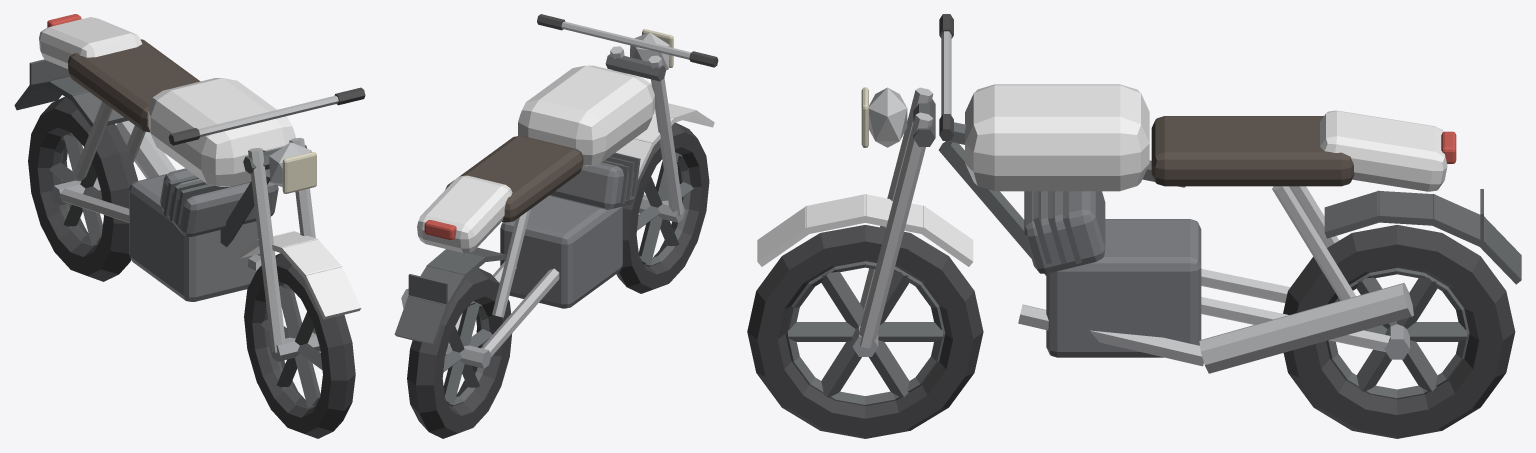
The model's file is motorbike.glb.
3 renders of one model, left to right at view 1: azimuth 30°, elevation 25°; view 2: azimuth 150°, elevation 25°; view 3: azimuth 270°, elevation 25°, orthographic. The views are drawn at different scales.
Parts seen in each view (by area): view 1: body, wheel-back, wheel-front, steer, seat, detach_fender, detach_fender_back, detach_exhaust; view 2: body, wheel-back, wheel-front, steer, seat, detach_fender_back, detach_fender; view 3: body, wheel-front, wheel-back, seat, detach_exhaust, steer, detach_fender_back, detach_fender.
Part boxes in pixels (x1=…): body: x1=39, y1=14, x2=295, y2=301; wheel-back: x1=28, y1=97, x2=138, y2=281; wheel-front: x1=244, y1=253, x2=355, y2=438; steer: x1=168, y1=87, x2=365, y2=352; seat: x1=68, y1=39, x2=200, y2=132; detach_fender: x1=238, y1=231, x2=361, y2=319; detach_fender_back: x1=14, y1=59, x2=128, y2=127; detach_exhaust: x1=116, y1=120, x2=261, y2=271; body: x1=417, y1=65, x2=654, y2=356; wheel-back: x1=407, y1=268, x2=512, y2=438; wheel-front: x1=616, y1=122, x2=709, y2=293; steer: x1=537, y1=14, x2=718, y2=215; seat: x1=445, y1=136, x2=583, y2=222; detach_fender_back: x1=394, y1=247, x2=505, y2=345; detach_fender: x1=616, y1=103, x2=714, y2=178; body: x1=938, y1=84, x2=1456, y2=357; wheel-front: x1=747, y1=225, x2=983, y2=438; wheel-back: x1=1283, y1=225, x2=1515, y2=438; seat: x1=1151, y1=116, x2=1354, y2=186; detach_exhaust: x1=1018, y1=283, x2=1413, y2=373; steer: x1=858, y1=14, x2=953, y2=348; detach_fender_back: x1=1324, y1=189, x2=1521, y2=284; detach_fender: x1=757, y1=194, x2=973, y2=266.
Size of the model in its own units: 0.74 by 1.1 by 2.1.
